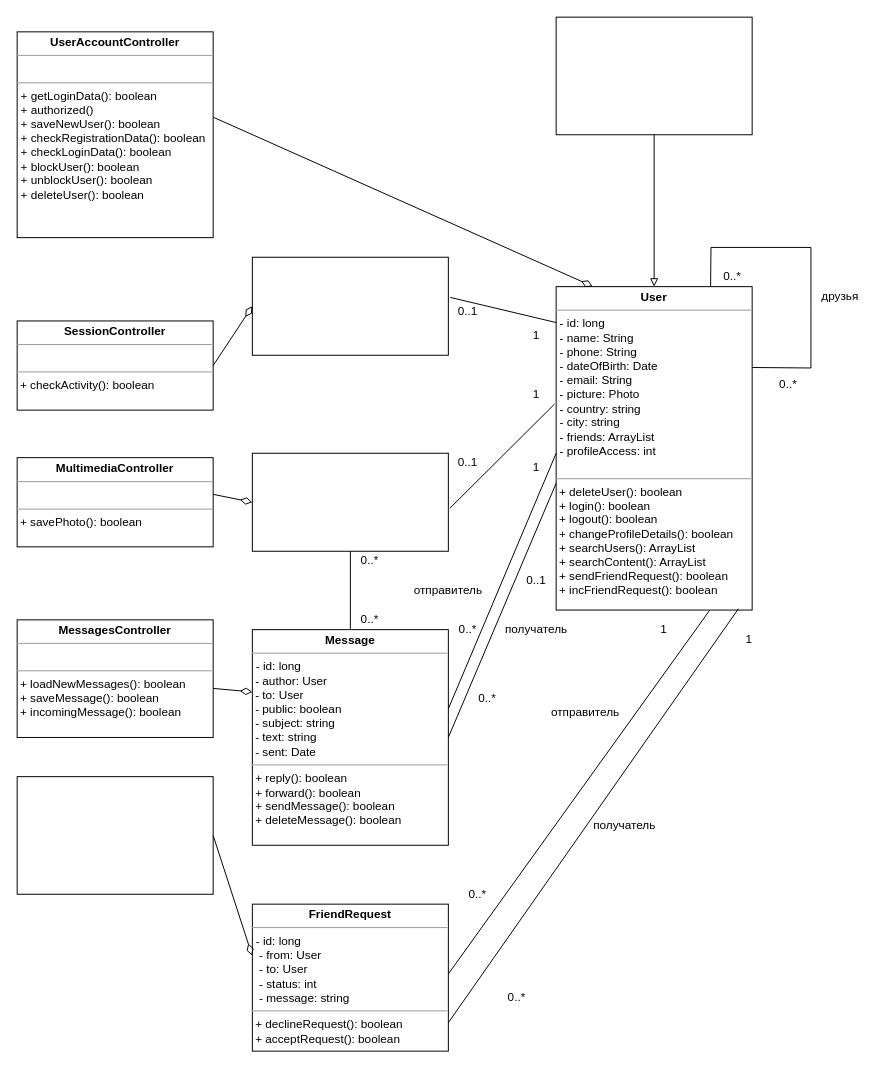
The diagram is 877 pixels wide and 1069 high, and some of its shapes have lost their labels. Each missing label, with the box of its shape:
Admin + deleteUser(): boolean + blockUser(): boolean + unblockUser(): boolean: (555, 16, 752, 135)
FriendsController + saveRequest(): boolean + returnRequest(): boolean: (16, 776, 213, 894)
Photo - id: long - description: String: (251, 452, 448, 551)
Session - id: long - owner: User: (251, 256, 448, 355)
